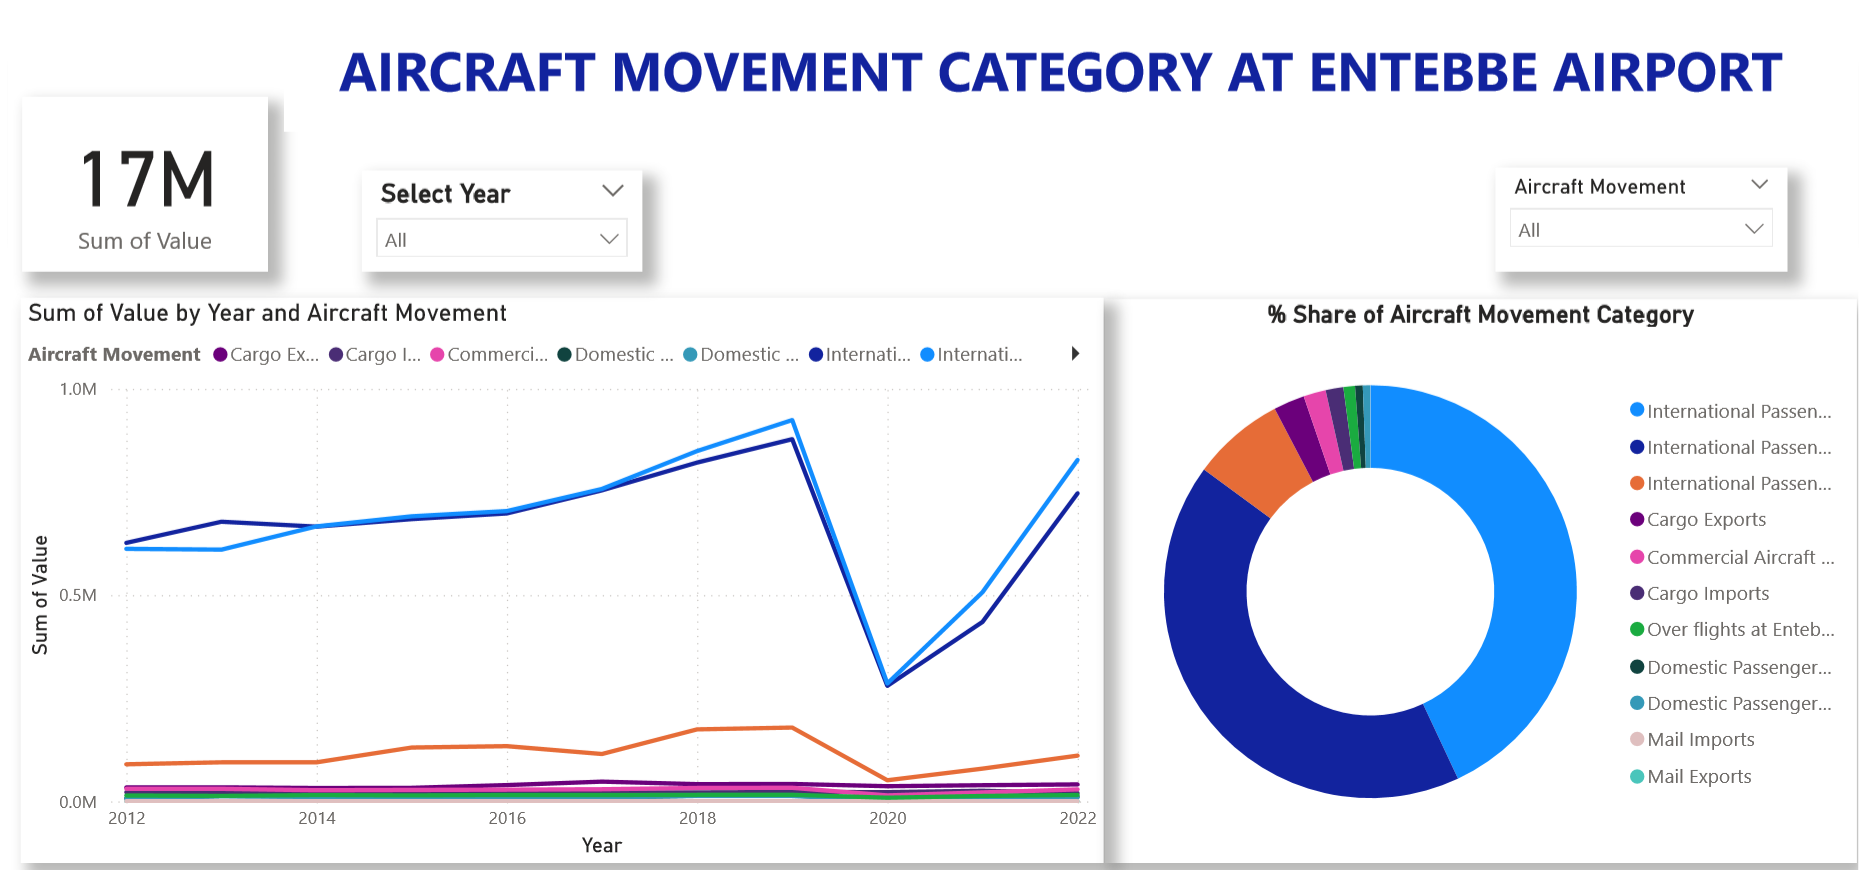

The page's visual inventory and layout, read from the dashboard file:
{"tool":"powerbi","page":{"name":"Aircraft Movements","canvas":[1280,720],"ordinal":0},"visuals":[{"type":"lineChart","fields":{"Category":["Air Transport.Year"],"Y":["Sum(Air Transport.Value)"],"Series":["Air Transport.Aircraft Movement"]},"box":[9.4,198.1,749.1,390.6],"z":0},{"type":"donutChart","title":"% Share of Aircraft Movement Category","fields":{"Category":["Air Transport.Aircraft Movement"],"Y":["Sum(Air Transport.Value)"]},"box":[758.7,198.8,520.1,389.7],"z":1000},{"type":"slicer","fields":{"Values":["Air Transport.Year"]},"box":[245,109.8,194.1,70],"z":2000},{"type":"card","fields":{"Values":["Sum(Air Transport.Value)"]},"box":[9.5,58.9,170.2,120.9],"z":3000},{"type":"textbox","box":[190.9,9.5,1075.3,73.2],"z":4000},{"type":"slicer","fields":{"Values":["Air Transport.Aircraft Movement"]},"box":[1029.1,108.2,202,71.6],"z":5000}]}

Visuals, with their boxes on the page's 1280x720 design canvas (x1, y1, x2, y2). These are canvas units, not pixel positions in the 1876x870 screenshot, which may show the page scaled, cropped or inside an application window:
lineChart - Air Transport.Year x Sum(Air Transport.Value): x1=9 y1=198 x2=758 y2=589
"% Share of Aircraft Movement Category" donutChart: x1=759 y1=199 x2=1279 y2=588
slicer - Air Transport.Year: x1=245 y1=110 x2=439 y2=180
card - Sum(Air Transport.Value): x1=10 y1=59 x2=180 y2=180
textbox: x1=191 y1=10 x2=1266 y2=83
slicer - Air Transport.Aircraft Movement: x1=1029 y1=108 x2=1231 y2=180
